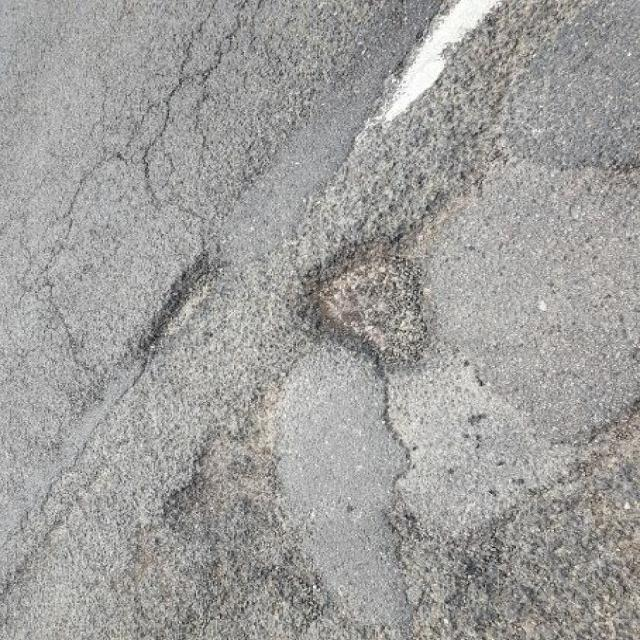Pothole: (286, 225, 439, 378), (153, 410, 296, 528), (145, 256, 221, 350)
